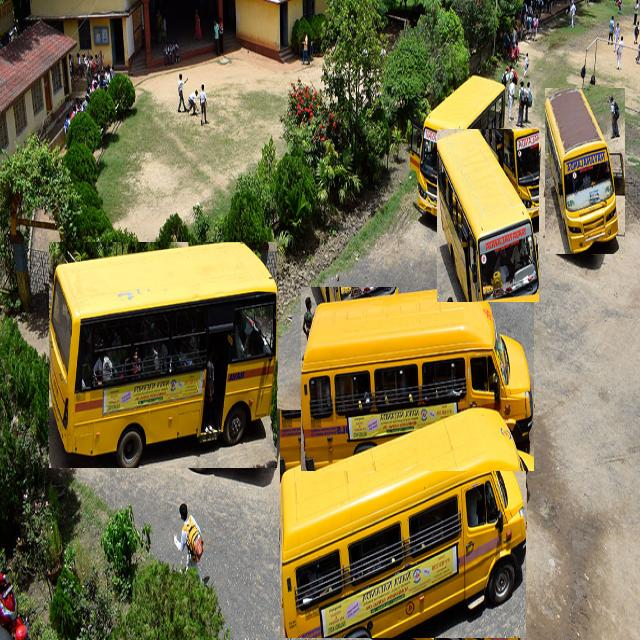bus: (280, 410, 526, 638), (50, 242, 277, 468), (301, 288, 534, 471), (438, 129, 539, 302), (410, 77, 506, 220), (545, 89, 625, 254)
